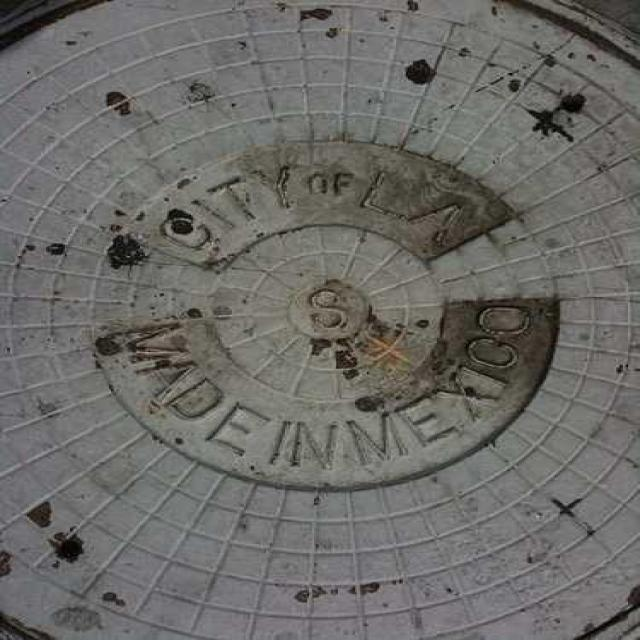manhole: (3, 0, 635, 640)
